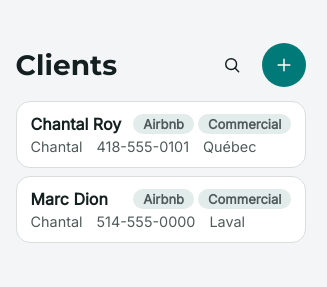
clients › lists the clients and finds one by its phone number
The width and height of the screenshot is (327, 287).
Check: the text "Chantal Roy" is shown, box [31,114,121,134]
Click the button named "Search clients": [232, 65] box [210,43,254,87]
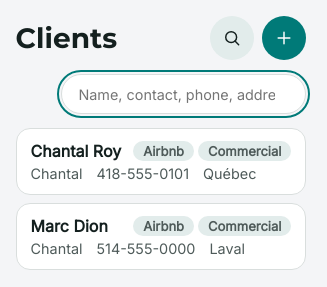
In the search field: [184, 94] box [61,74,306,114], type "514"
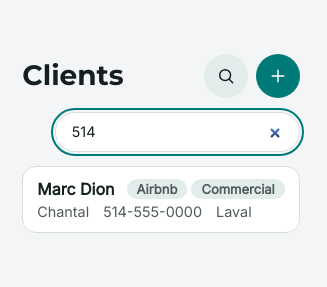
Check: the text "Marc Dion" is shown, box [37,178,114,198]
Check: the button "Chantal Roy" is gone
